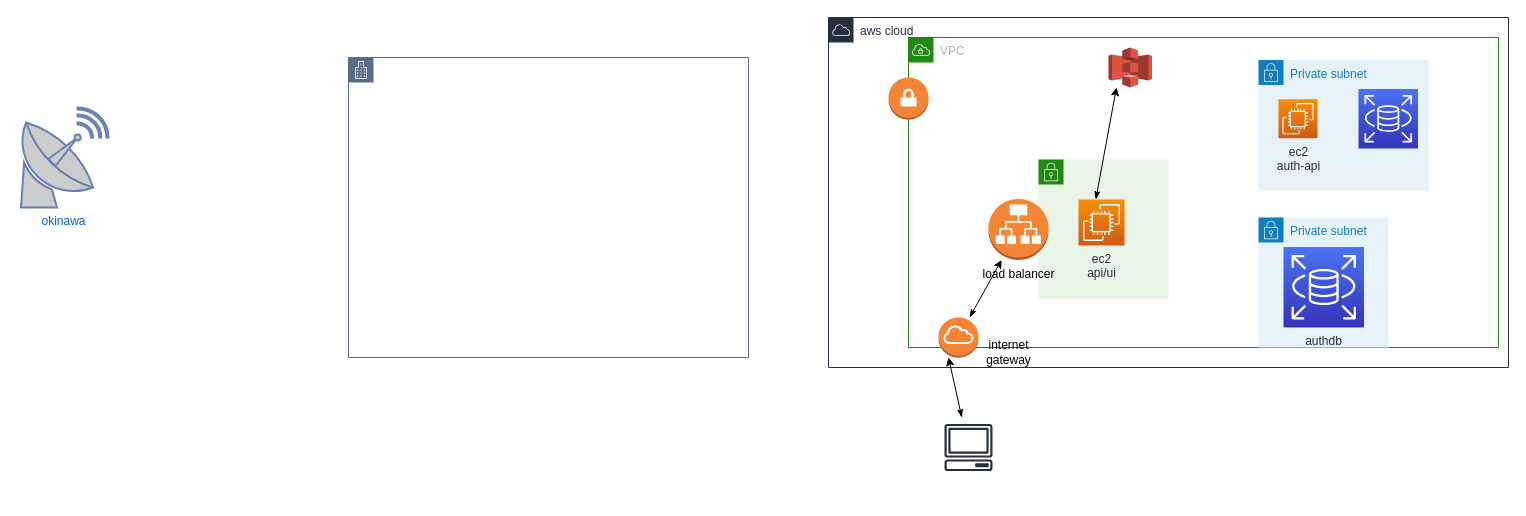
Image size: 1526x516. Some labels were removed from this diagram. Here are the shapes that lost their labels. From the top down, the box of each, then its label:
(1108, 46, 1152, 88): s3
(1358, 88, 1418, 148): rds
(348, 56, 748, 358): Corporate data center
(1038, 158, 1168, 300): Public subnet
(938, 416, 998, 478): Client
